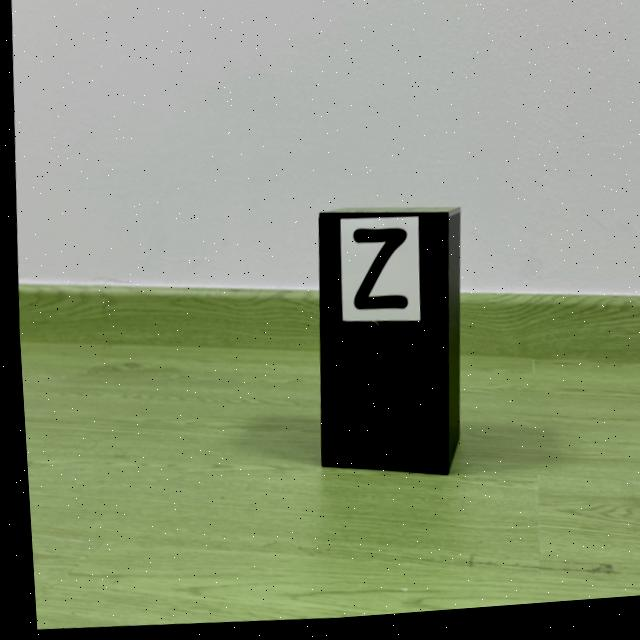Z: (349, 233, 404, 315)
